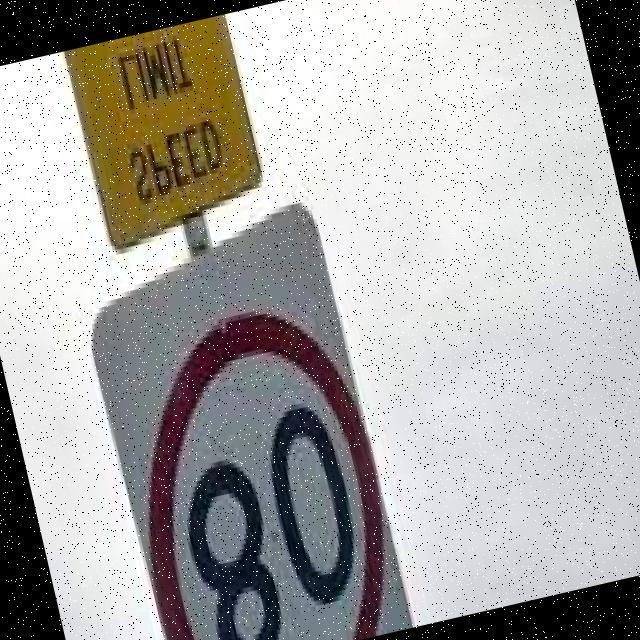speed_limit_80: (99, 291, 416, 640)
